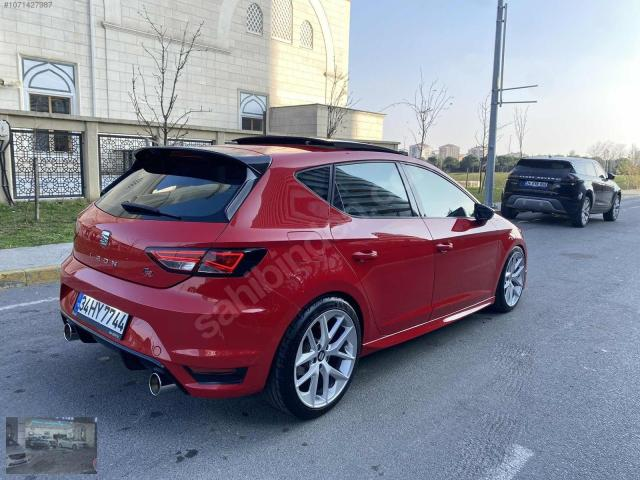plaka: (73, 293, 128, 338)
